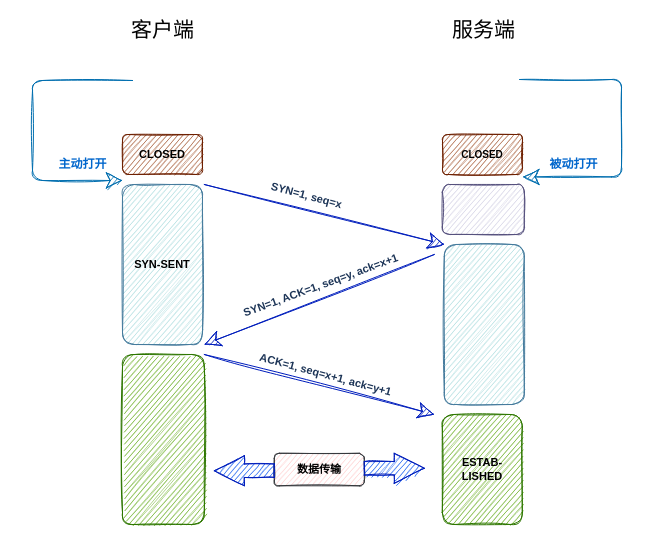
Some shapes in this 655 by 542 pixel diagram are drawn without their labels. The centre of each missing label's shape, as x and y in pixels:
"ESTAB- LISHED" goes at (163,439).
"LISTEN" goes at (482,209).
"SYN-RCVD" goes at (483,324).
